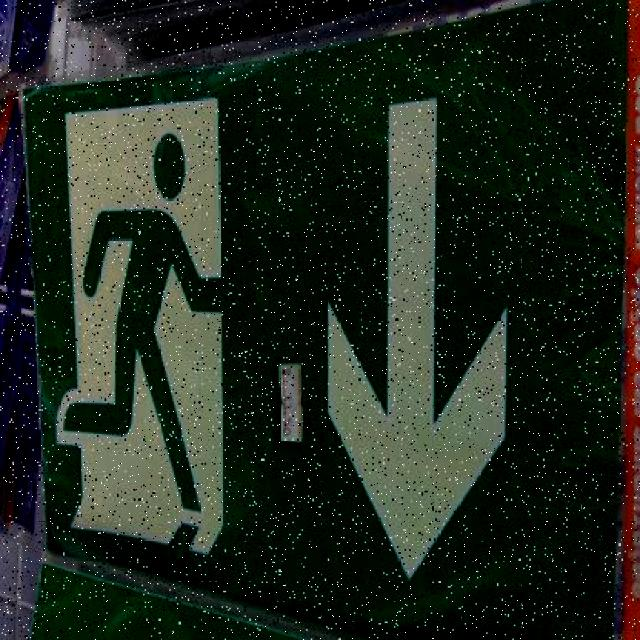emergency_exit: (13, 1, 637, 638), (51, 95, 226, 558)
